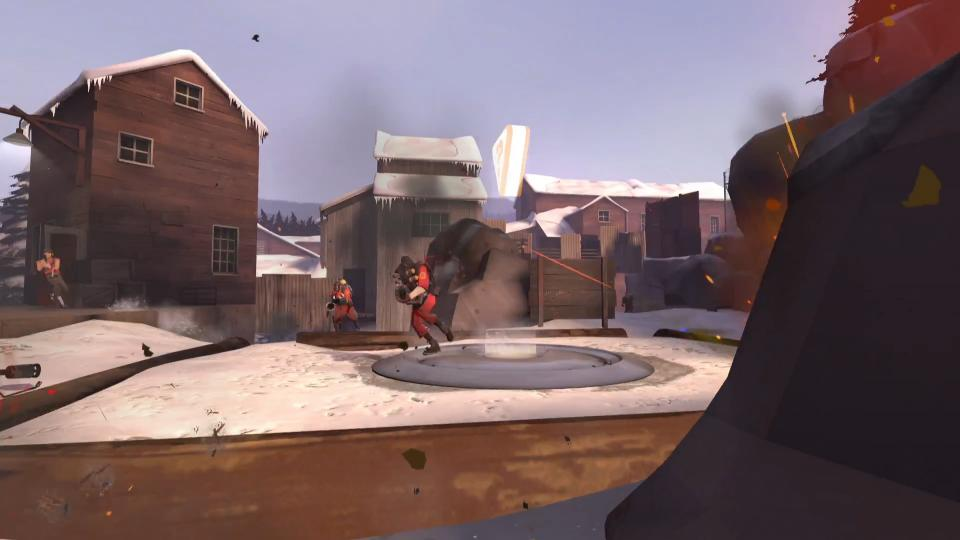Enemy: (392, 256, 455, 353), (23, 251, 69, 308), (326, 279, 362, 330)
